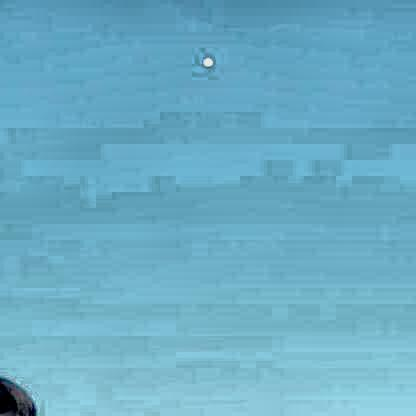golfball: (200, 52, 214, 67)
